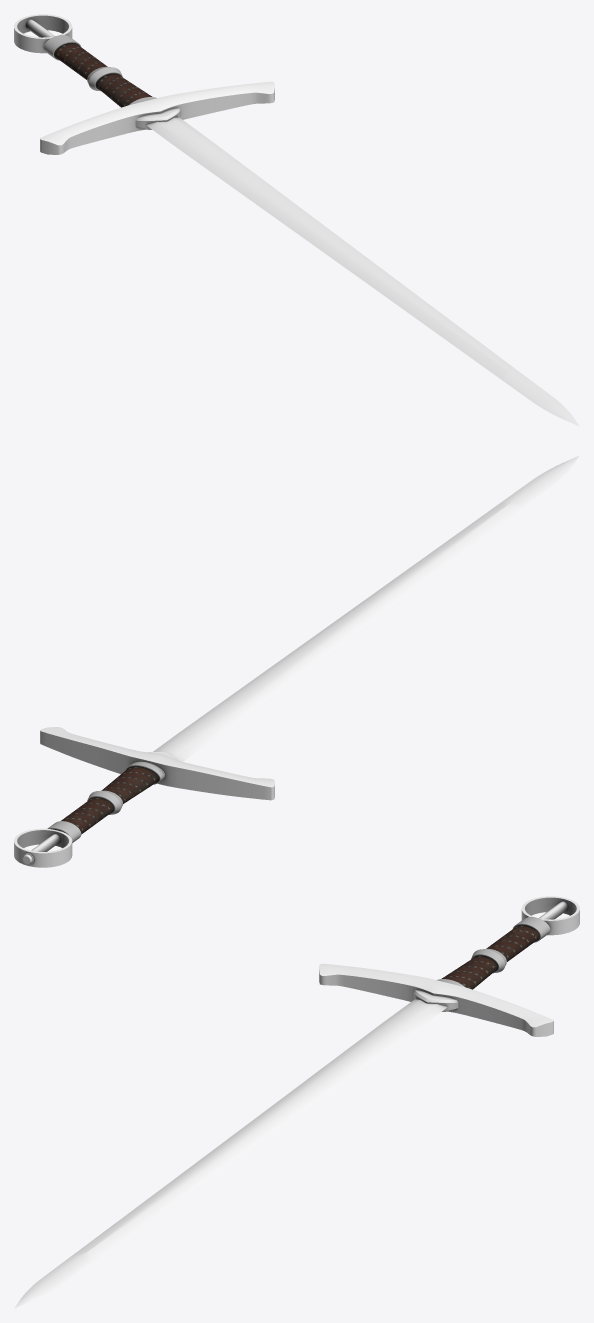
Rendered from e0ceb6bd-0141-472d-a451-552da66468b7.glb.
3 views of the same model, one above another, from view 1: azimuth 30°, elevation 25°; view 2: azimuth 150°, elevation 25°; view 3: azimuth 330°, elevation 25° (orthographic).
Visible parts, largest first — view 1: blade_low, guard_low, handle_low, hilt_low; view 2: blade_low, guard_low, handle_low, hilt_low; view 3: blade_low, guard_low, handle_low, hilt_low.
Part boxes in pixels (x1=…): blade_low: x1=146, y1=116, x2=579, y2=426; guard_low: x1=40, y1=81, x2=274, y2=154; handle_low: x1=43, y1=35, x2=156, y2=107; hilt_low: x1=14, y1=14, x2=72, y2=53; blade_low: x1=153, y1=455, x2=579, y2=761; guard_low: x1=40, y1=727, x2=274, y2=800; handle_low: x1=47, y1=761, x2=165, y2=842; hilt_low: x1=14, y1=828, x2=72, y2=867; blade_low: x1=14, y1=998, x2=447, y2=1308; guard_low: x1=319, y1=963, x2=553, y2=1036; handle_low: x1=437, y1=917, x2=550, y2=989; hilt_low: x1=521, y1=896, x2=579, y2=935.
Bounding box in the file's own units: 0.0754 × 0.00695 × 0.3097.
2 materials, 2 textured.
